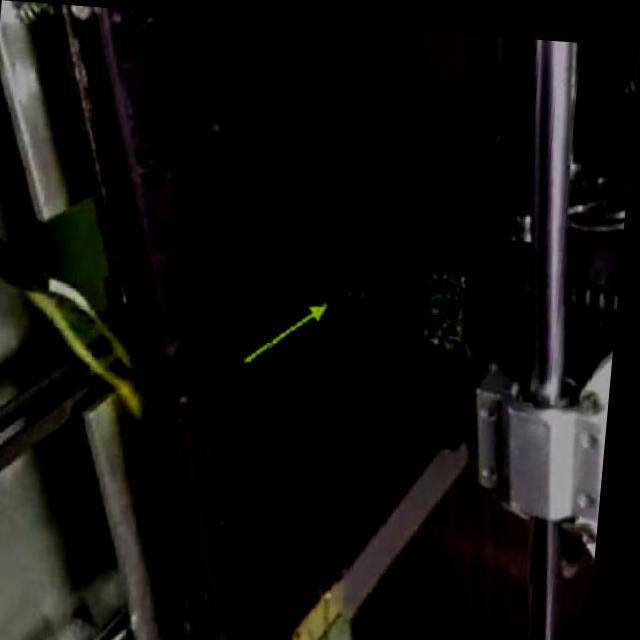spaghetti: (348, 260, 397, 309)
